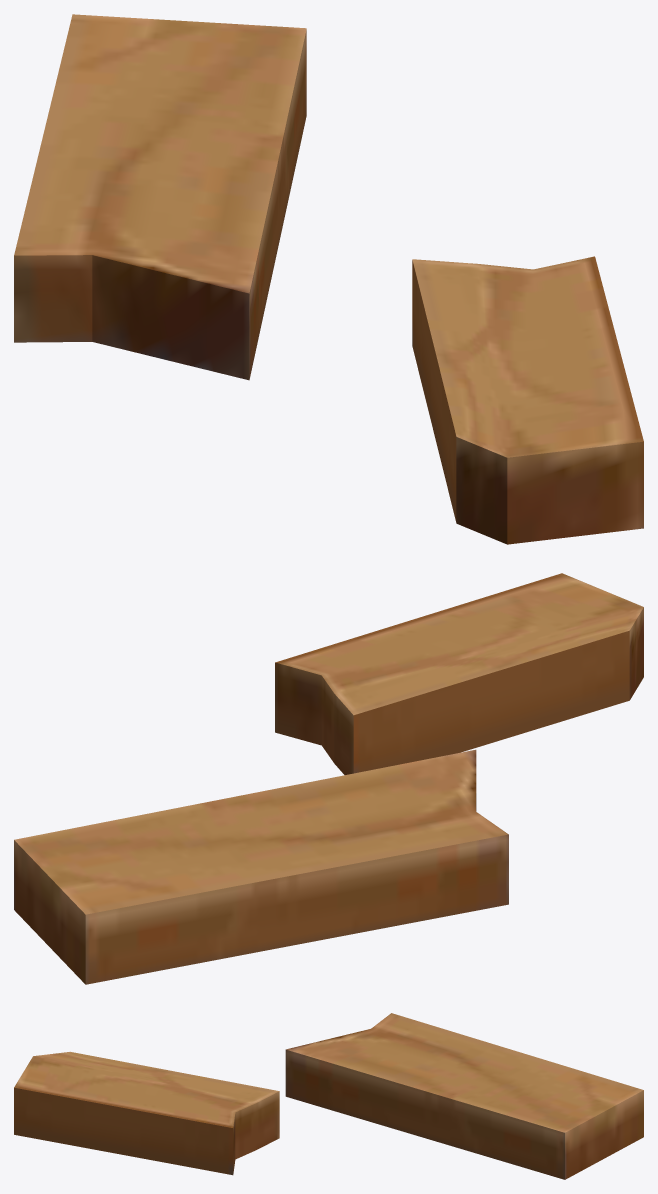
Rendered from caodi_suimutou_01.fbx.
The picture shows the model from 3 angles, top to bottom: view 1: azimuth 30°, elevation 25°; view 2: azimuth 150°, elevation 25°; view 3: azimuth 270°, elevation 25°; orthographic projection. The views are drawn at different scales.
Parts seen in each view (by area): view 1: caodi_suimutou_01; view 2: caodi_suimutou_01; view 3: caodi_suimutou_01.
Boxes of the visible parts, <box> form: caodi_suimutou_01: <box>14,14,643,544</box>; caodi_suimutou_01: <box>14,573,643,984</box>; caodi_suimutou_01: <box>14,1013,643,1179</box>.
Bounding box in the file's own units: 1.3 × 0.2374 × 2.88.
